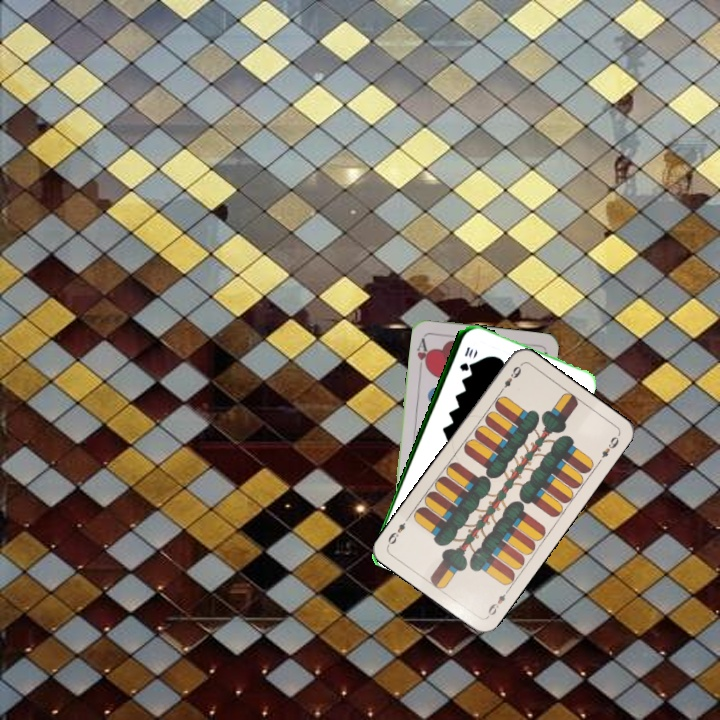E9: (495, 361, 524, 396), (483, 585, 512, 620)
G10: (456, 343, 475, 374)
HA: (413, 334, 432, 373)
